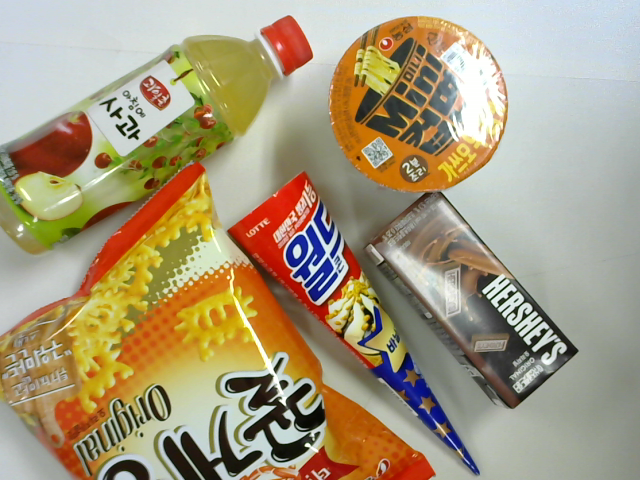Crabrang: (1, 162, 435, 480)
Hush_Choco_Drink: (368, 192, 578, 412)
Morning_Apple_500ml: (1, 12, 316, 258)
Udongmini: (325, 10, 513, 202)
World_Cone_Banila: (228, 169, 479, 480)
